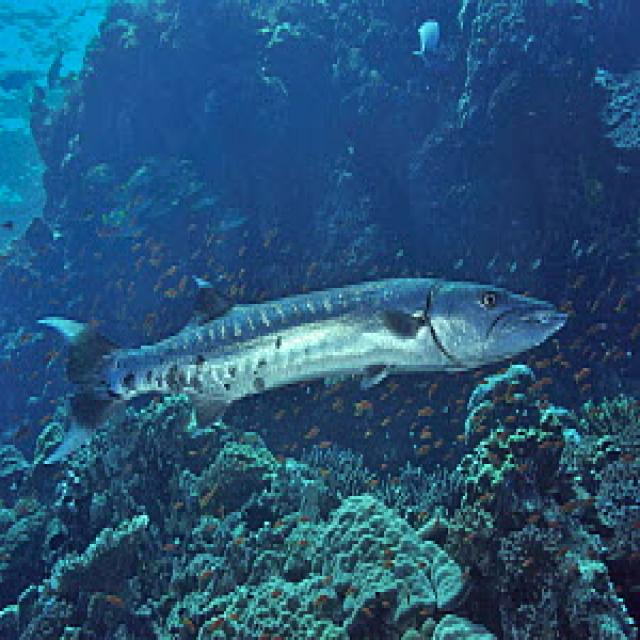Barracuda: (32, 266, 570, 467)
